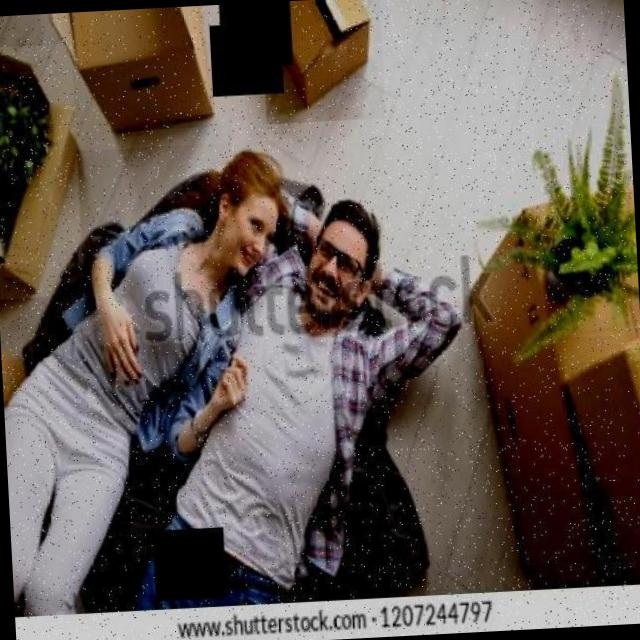box: (460, 201, 620, 602), (41, 4, 248, 153), (0, 44, 85, 301), (569, 334, 640, 584), (261, 0, 386, 124)
